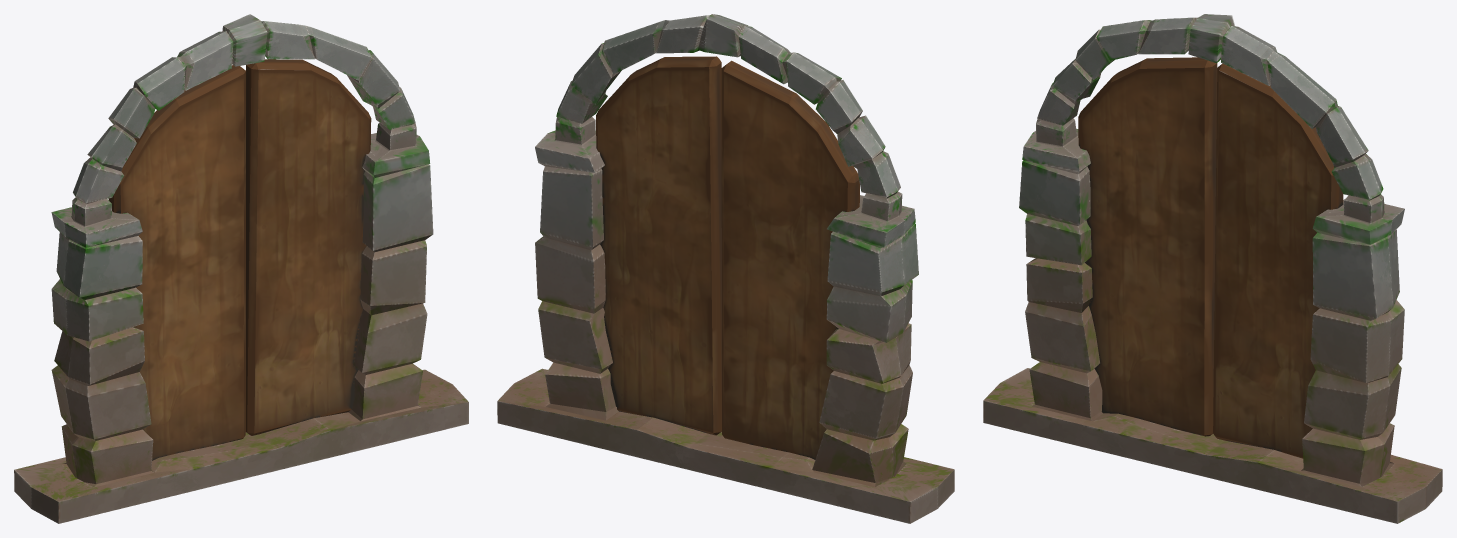
3 views of the same model, side by side, from view 1: azimuth 30°, elevation 25°; view 2: azimuth 150°, elevation 25°; view 3: azimuth 330°, elevation 25° (orthographic).
Parts seen in each view (by area): view 1: pueta; view 2: pueta; view 3: pueta.
Boxes of the visible parts, bbox=[...] form: pueta: bbox=[14, 14, 468, 523]; pueta: bbox=[497, 14, 954, 523]; pueta: bbox=[983, 14, 1442, 523].
Size of the model in its own units: 4.4 by 4.35 by 0.8.
1 material, 1 textured.
